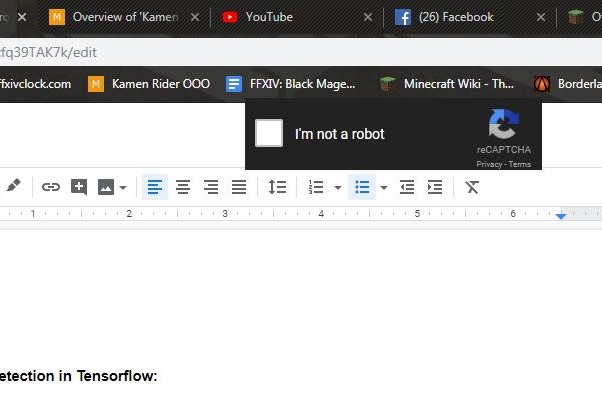captcha: (255, 118, 389, 147)
